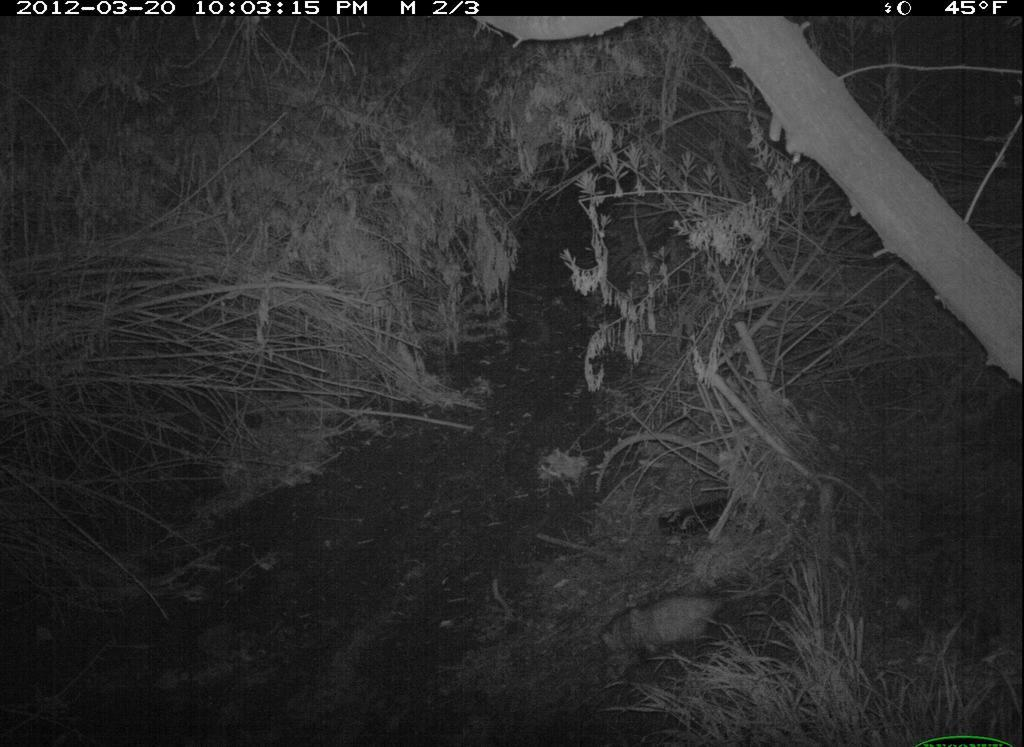opossum: (597, 566, 772, 670)
